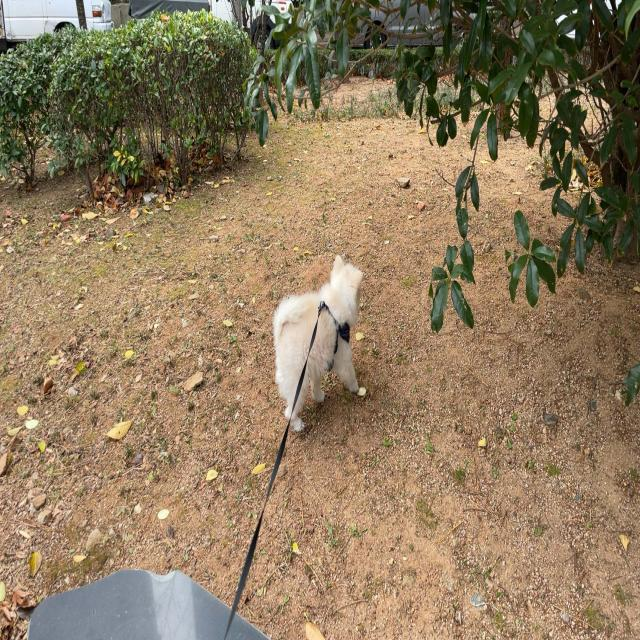Dog: (276, 255, 362, 431)
